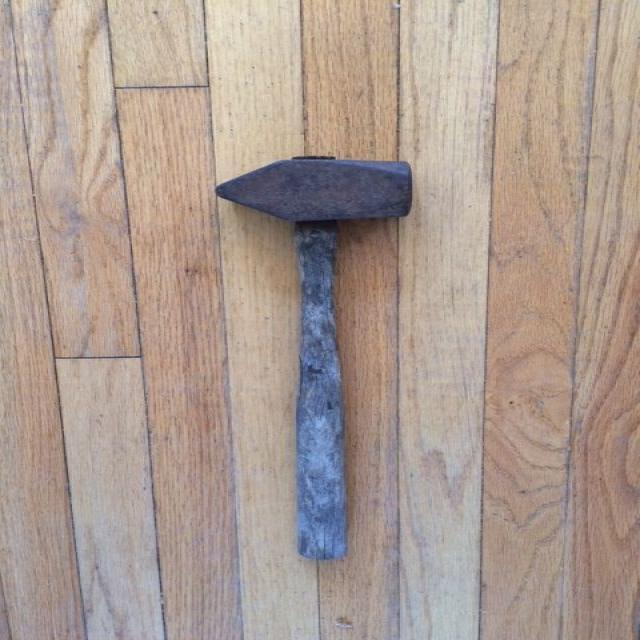hammer: (208, 150, 428, 577)
